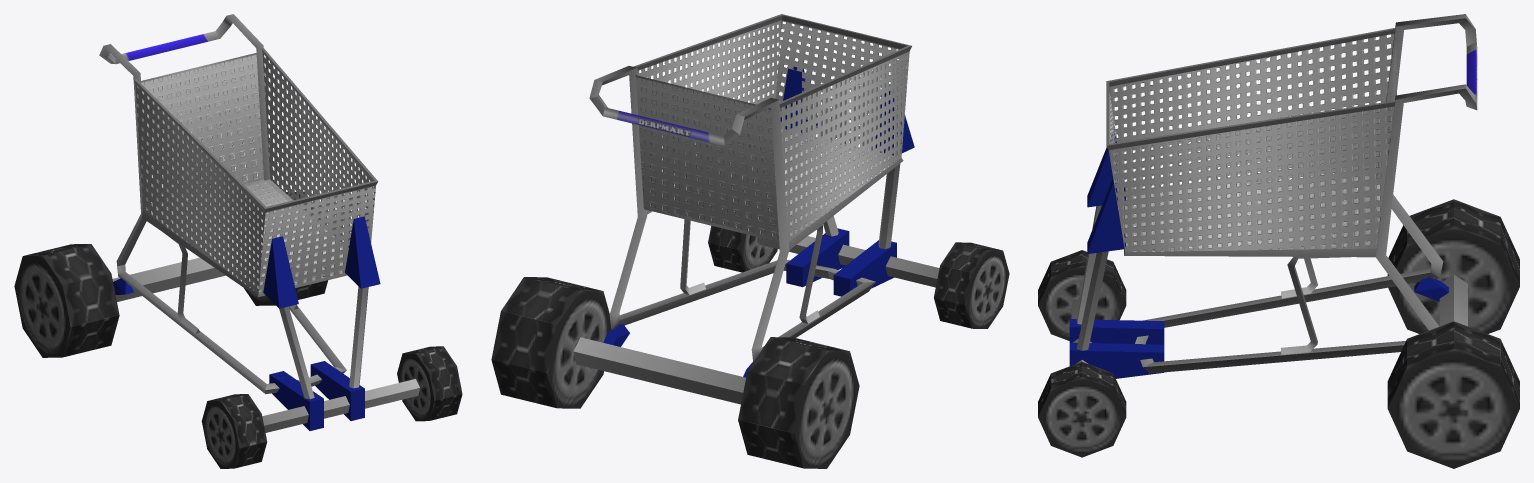
File: Cart_OffRoad_fixedHandle.fbx
3 views of the same model, side by side, from view 1: azimuth 30°, elevation 25°; view 2: azimuth 150°, elevation 25°; view 3: azimuth 270°, elevation 25° (orthographic). The views are drawn at different scales.
Visible parts, largest first — view 1: Off_road; view 2: Off_road; view 3: Off_road.
Boxes of the visible parts, left/top/right/bottom form: Off_road: left=14, top=14, right=462, bottom=468; Off_road: left=491, top=14, right=1009, bottom=468; Off_road: left=1038, top=14, right=1519, bottom=468.
Bounding box in the file's own units: 97.91 × 104 × 133.
